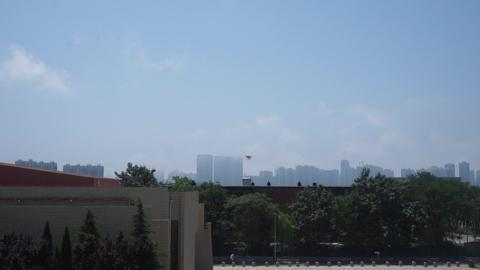UAV: (243, 155, 254, 160)
